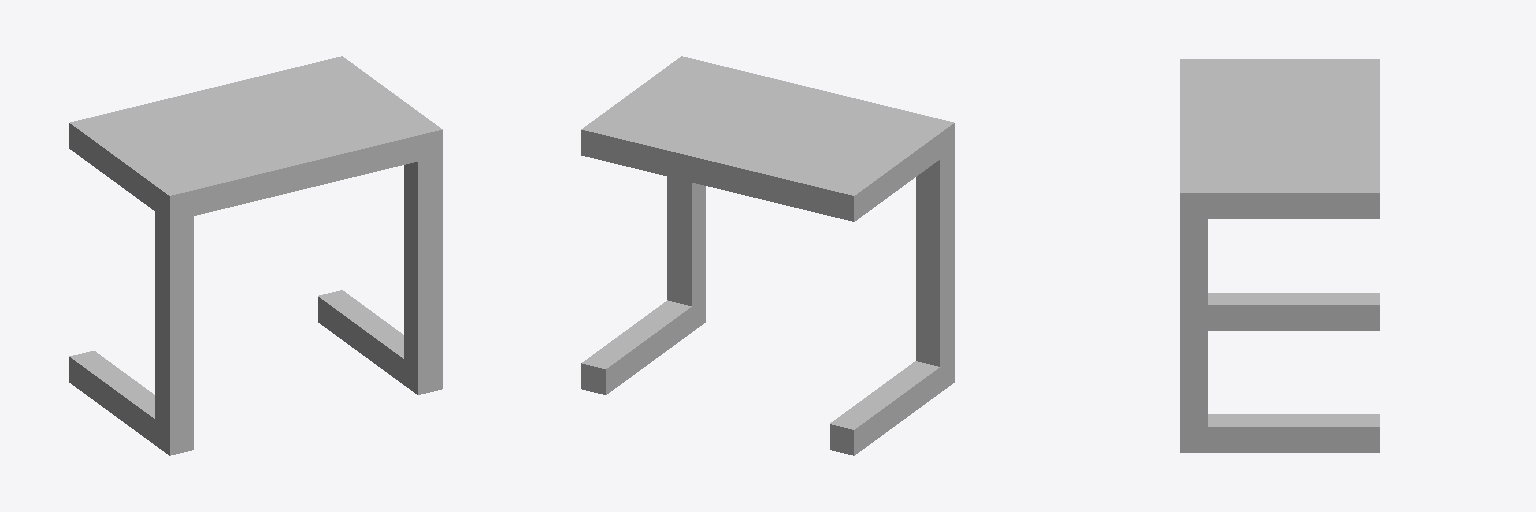
File: table.obj
3 views of the same model, side by side, from view 1: azimuth 30°, elevation 25°; view 2: azimuth 150°, elevation 25°; view 3: azimuth 270°, elevation 25° (orthographic).
Parts seen in each view (by area): view 1: object 1; view 2: object 1; view 3: object 1.
Part boxes in pixels (left/top/right/bottom): object 1: left=69, top=56, right=442, bottom=455; object 1: left=581, top=56, right=954, bottom=455; object 1: left=1180, top=59, right=1379, bottom=452.
Size of the model in its own units: 1.1 by 1 by 0.7.